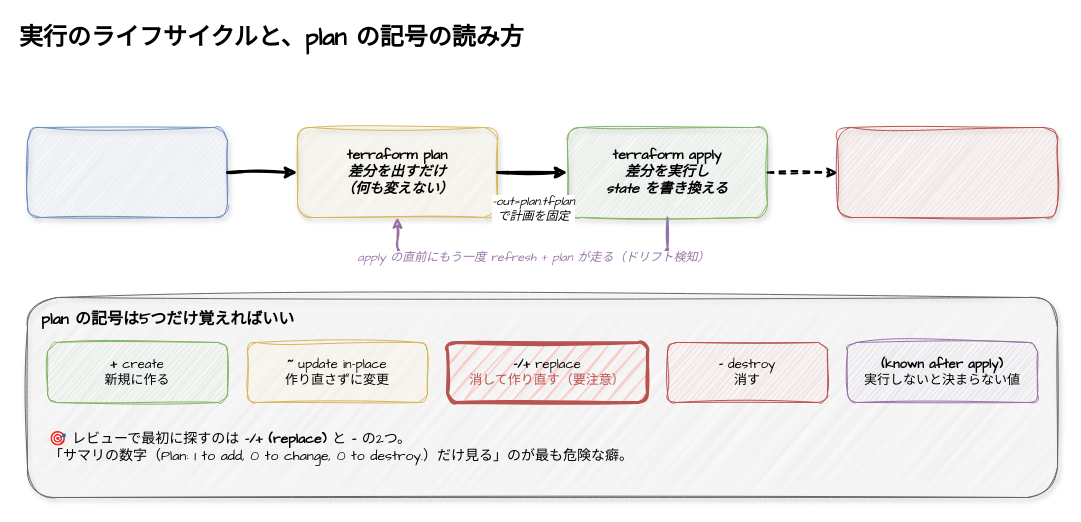
Some shapes in this 1081 by 522 pixel diagram are drawn without their labels. The shapes that lost their labels are listed below. From the top down, each one's centre as x and y in pixels, then its label:
At point 128,173: "terraform init provider を取得し backend につなぐ".
At point 948,173: "terraform destroy state にあるものを消す （state に無い物は消えない）".
